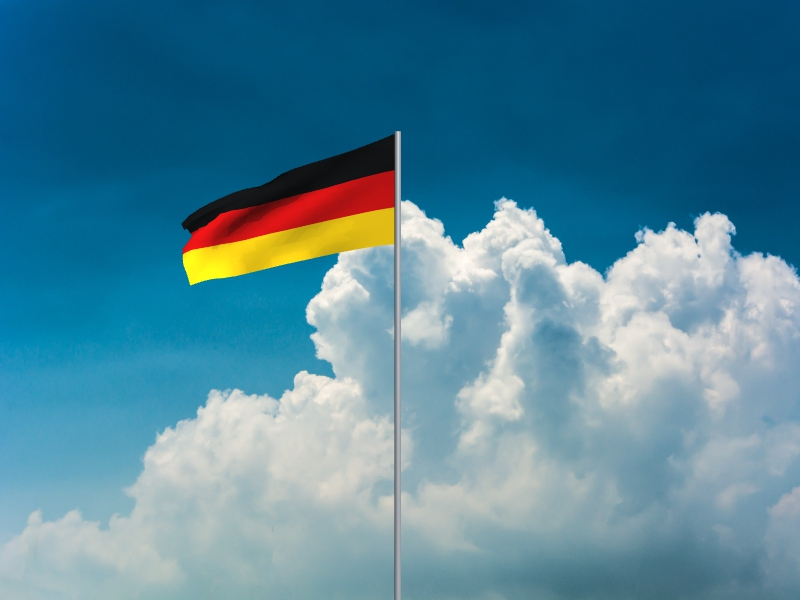de: (181, 134, 395, 287)
